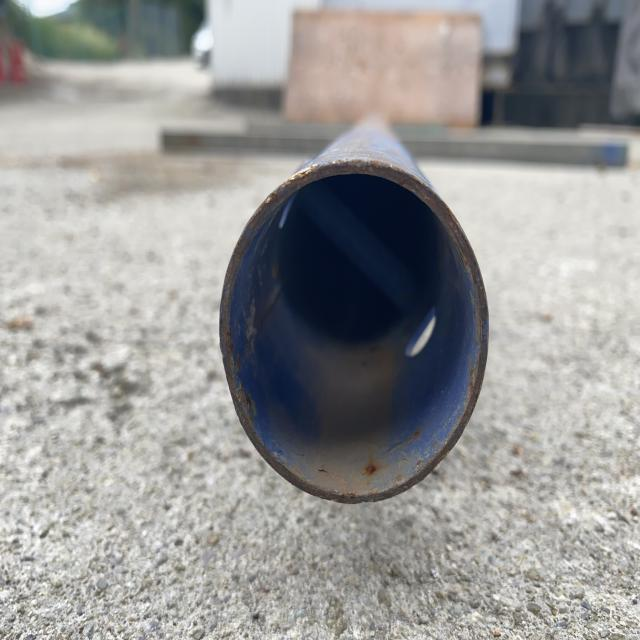pipe: (218, 115, 491, 506)
